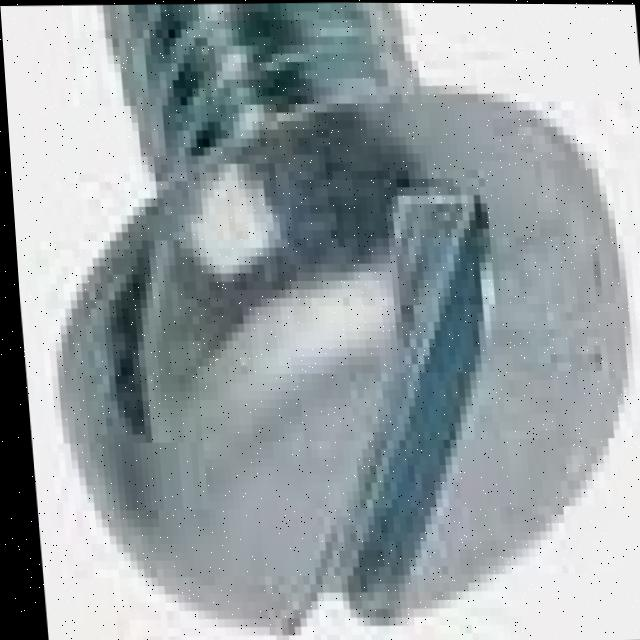Slotted: (31, 117, 640, 637)
